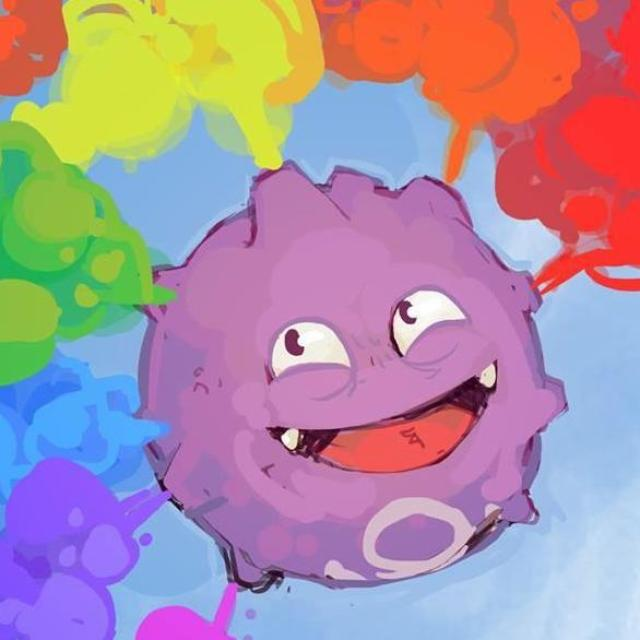Koffing: (130, 158, 574, 588)
